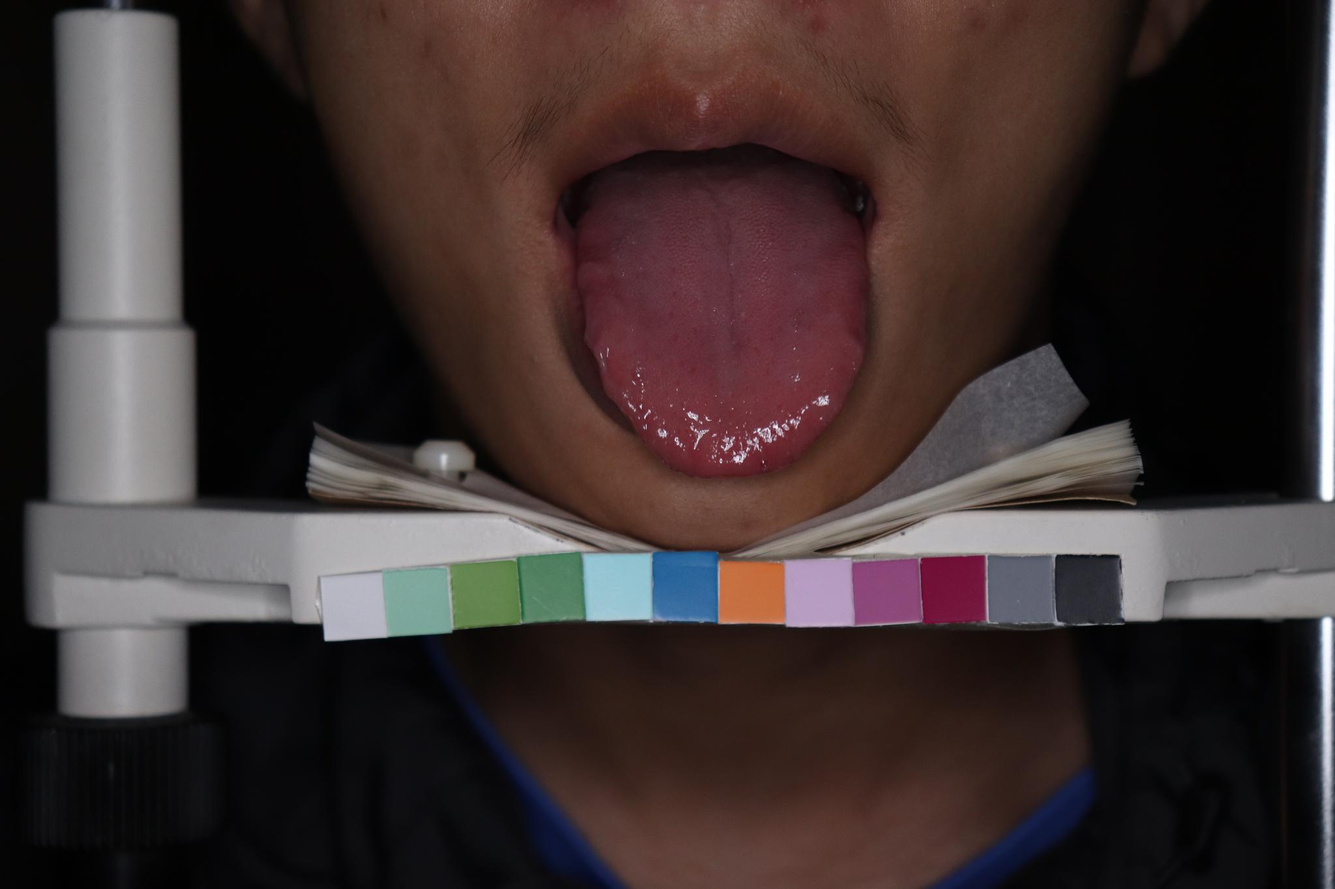chihenshe: (578, 264, 620, 401), (842, 268, 868, 355)
hongshe: (576, 163, 869, 477)
huataishe: (628, 401, 834, 477)
